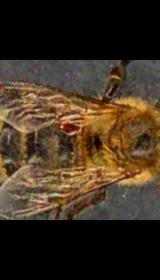varroa_mite: (58, 112, 81, 138)
